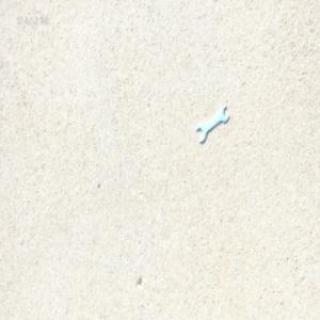Wrenchtrack_idkeyframe: (195, 104, 228, 141)
